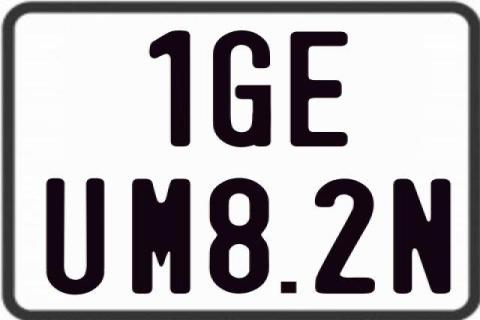0: (314, 177, 379, 292), (207, 176, 269, 293), (149, 28, 192, 145)
E: (289, 31, 350, 151)
G: (210, 28, 273, 147)
M: (130, 178, 188, 296)
N: (391, 176, 454, 295)
U: (44, 179, 104, 297)
